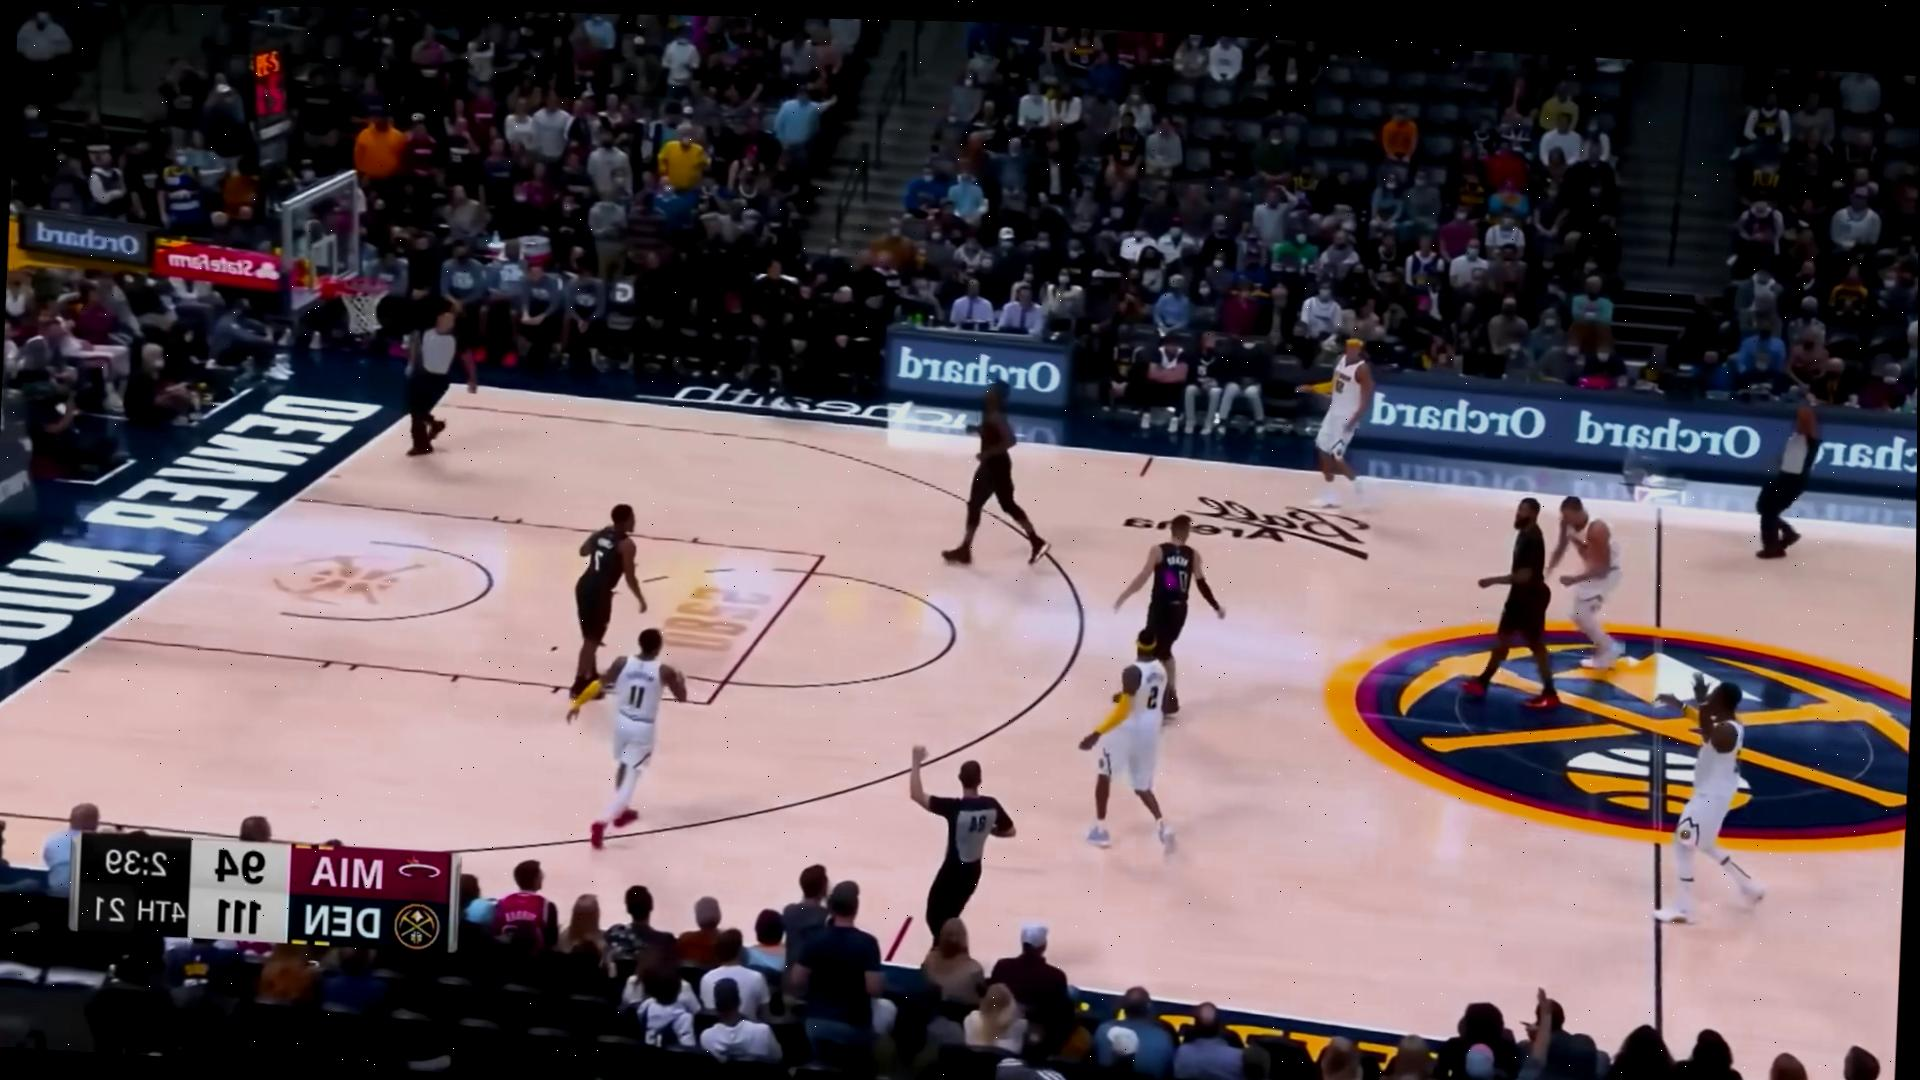no_foul: (1452, 447, 1658, 717)
